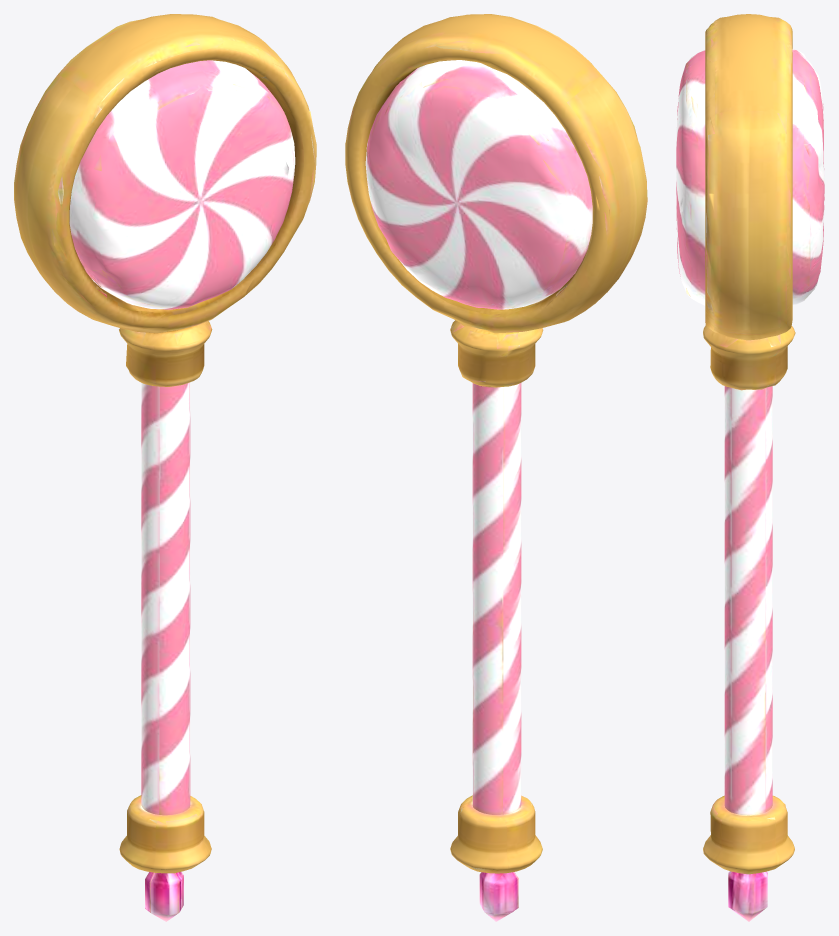
File: staff_candy.glb
3 renders of one model, left to right at view 1: azimuth 30°, elevation 25°; view 2: azimuth 150°, elevation 25°; view 3: azimuth 270°, elevation 25°, orthographic.
Parts seen in each view (by area): view 1: staff_candy; view 2: staff_candy; view 3: staff_candy.
Part boxes in pixels (left/top/right/bottom): staff_candy: left=14, top=14, right=316, bottom=921; staff_candy: left=345, top=14, right=647, bottom=921; staff_candy: left=676, top=14, right=824, bottom=921.
Bounding box in the file's own units: 0.3232 × 1 × 0.1501.
Materials: 1 (1 with a texture image).
